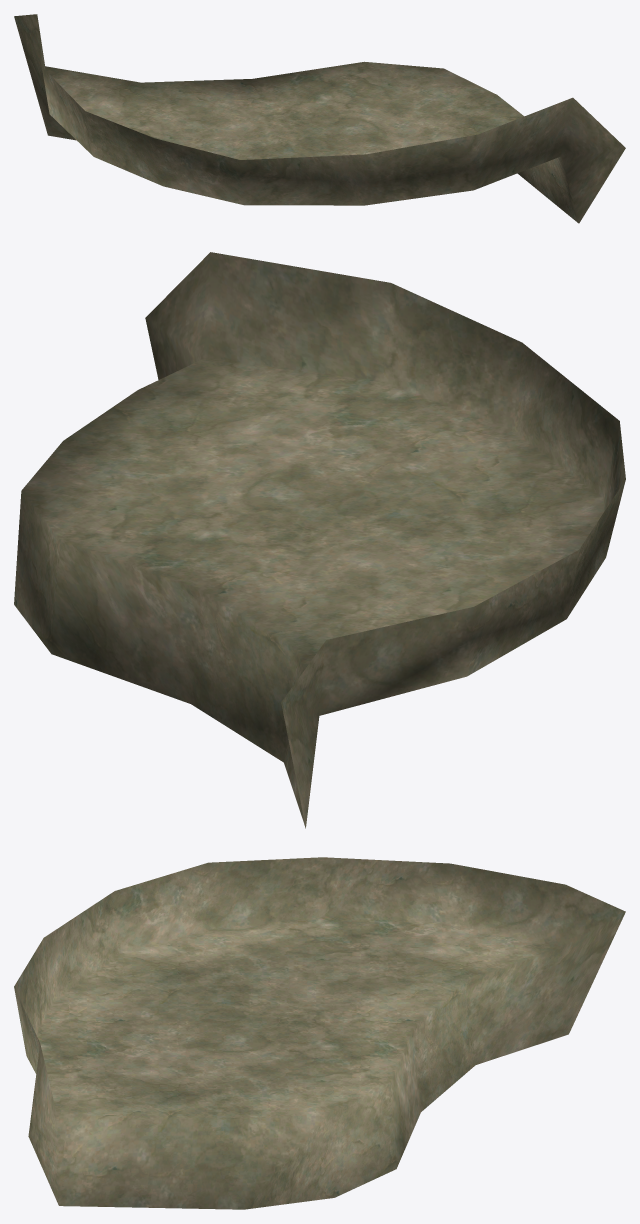
Rendered from EKH_GROTTO_PS_GR_OBJECT09.fbx.
The picture shows the model from 3 angles, top to bottom: view 1: azimuth 30°, elevation 25°; view 2: azimuth 150°, elevation 25°; view 3: azimuth 270°, elevation 25°; orthographic projection. The views are drawn at different scales.
Parts seen in each view (by area): view 1: EKH_GROTTO_PS_GR_OBJECT09; view 2: EKH_GROTTO_PS_GR_OBJECT09; view 3: EKH_GROTTO_PS_GR_OBJECT09.
Part boxes in pixels (left/top/right/bottom): EKH_GROTTO_PS_GR_OBJECT09: left=14, top=14, right=625, bottom=223; EKH_GROTTO_PS_GR_OBJECT09: left=14, top=252, right=625, bottom=828; EKH_GROTTO_PS_GR_OBJECT09: left=14, top=857, right=625, bottom=1209.
Bounding box in the file's own units: 37800 × 11900 × 42562.
1 material, 1 textured.
